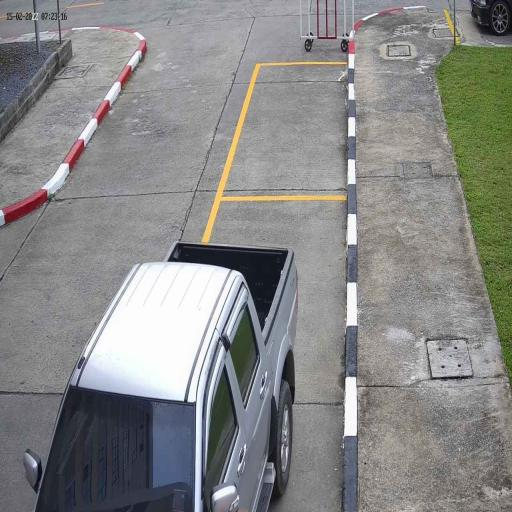car: (33, 239, 299, 512)
